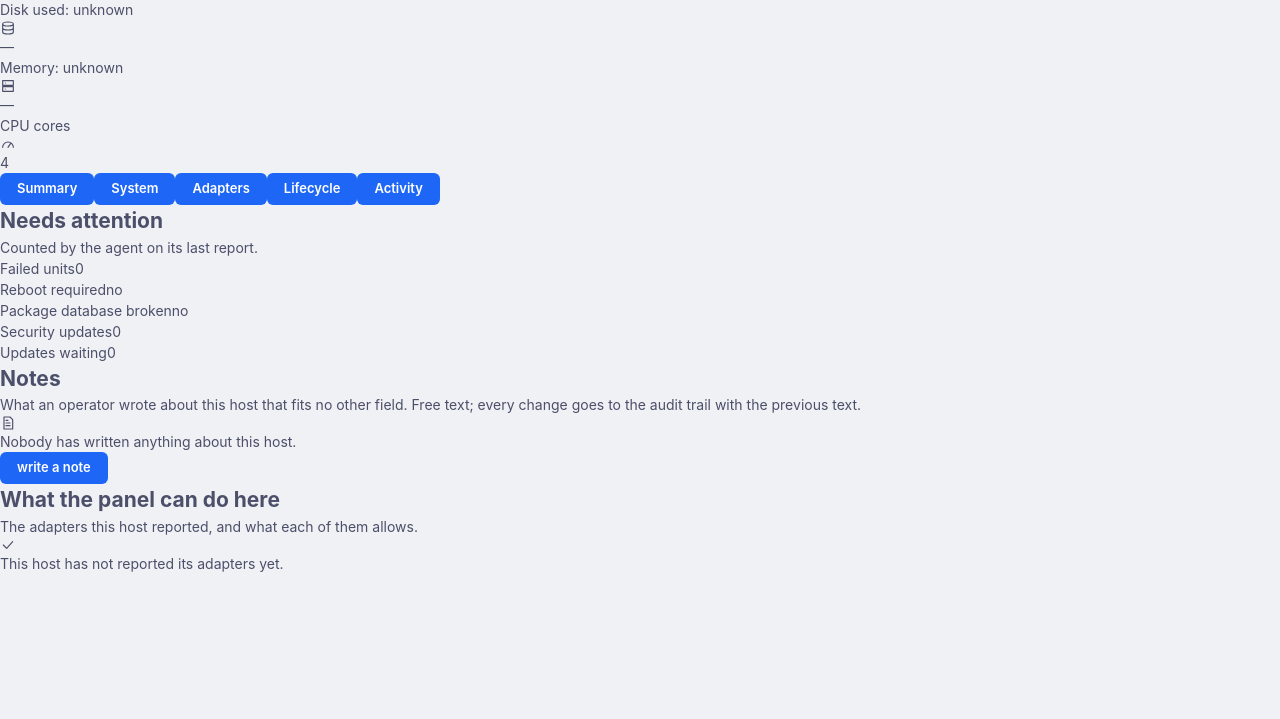
Test: what the overview records about a host › says a refusal of a write in the operator's words, and keeps the editor open
Click the button with test id "edit-notes" at (54, 468), box [0,452,108,484]
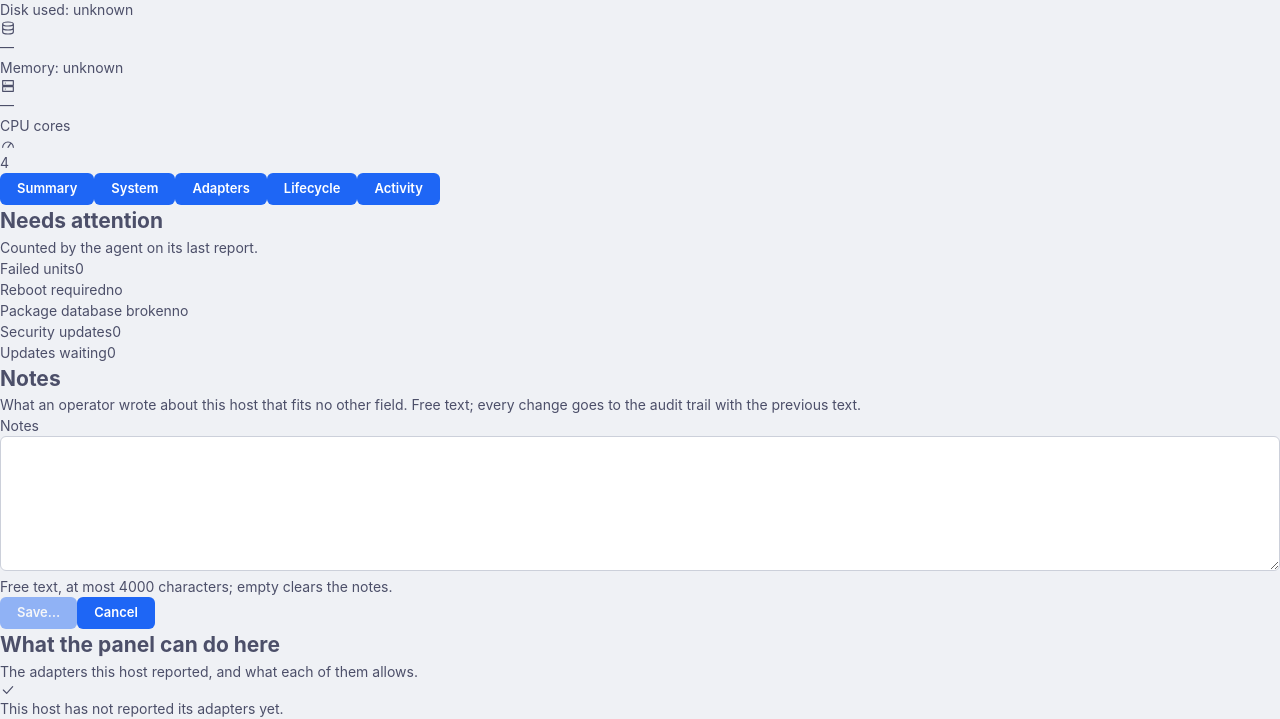
Type "the fan is noisy" into the text box with test id "input-notes" at (640, 504), box [0,436,1279,571]
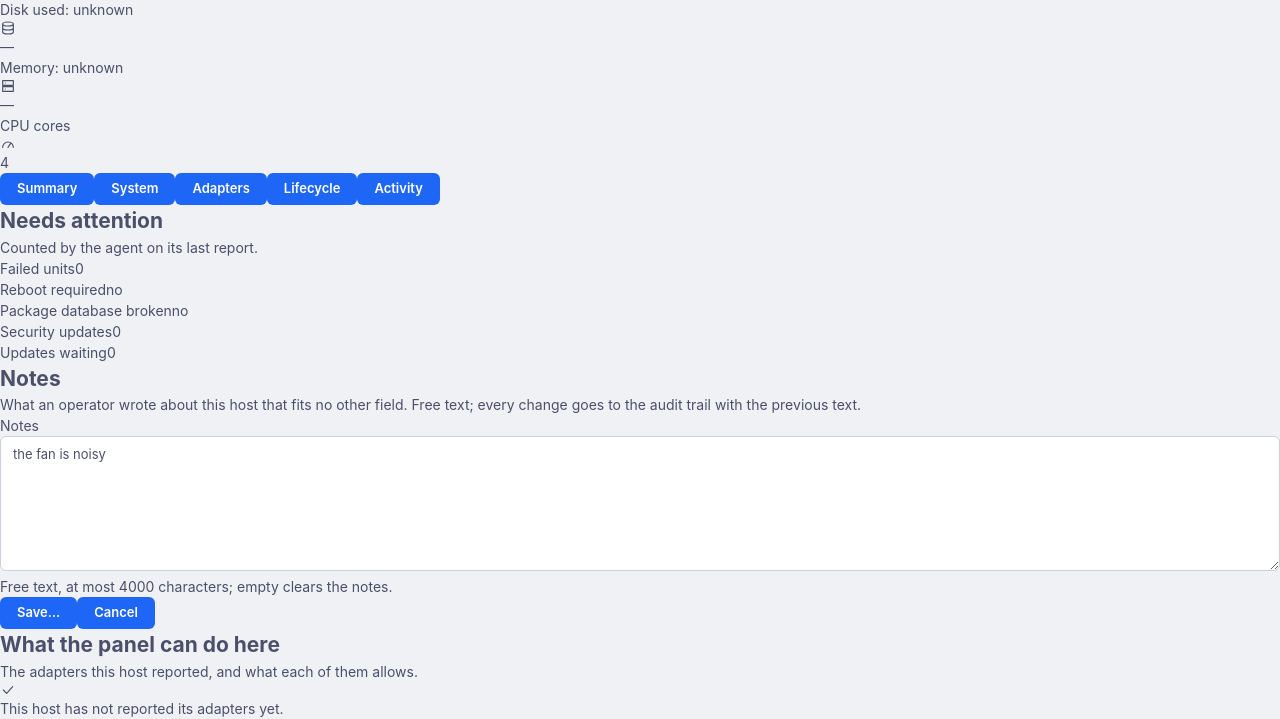
Click the button with test id "save-notes" at (39, 613), box [0,597,77,629]
(page scrolled)
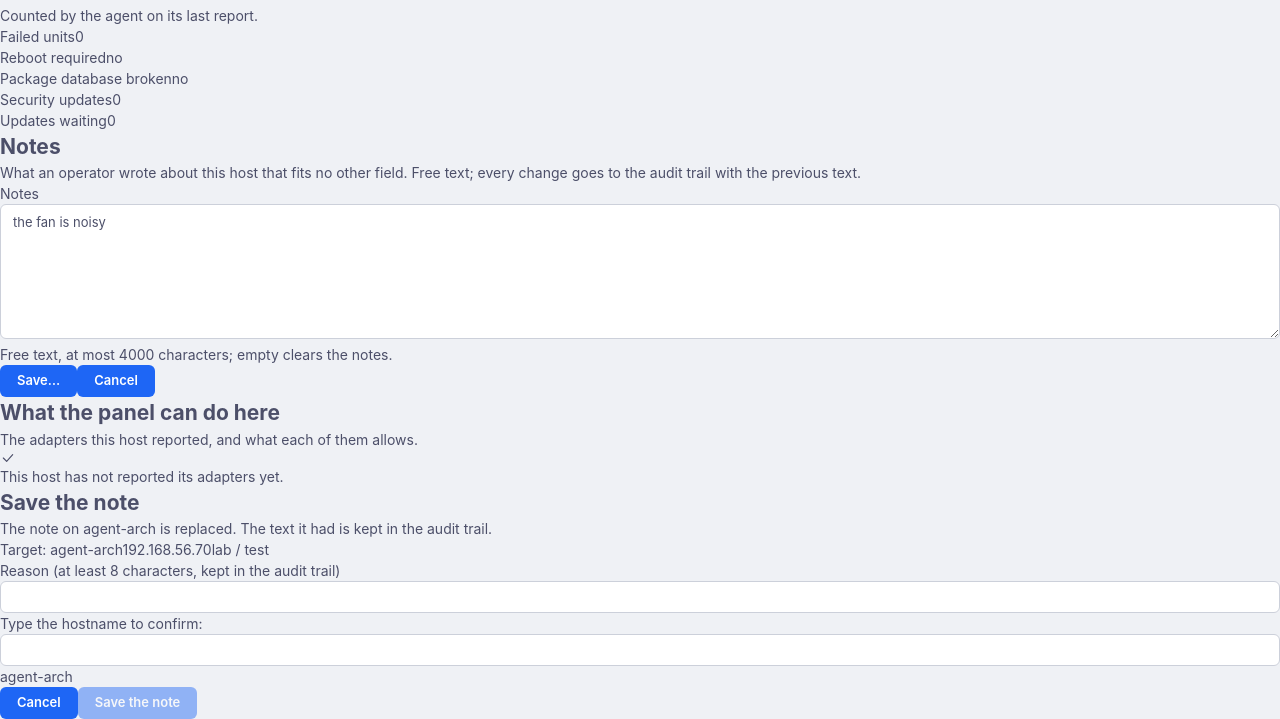
Type "handover note, ticket 1234" into the field with test id "confirm-reason" at (640, 597), box [0,581,1279,613]
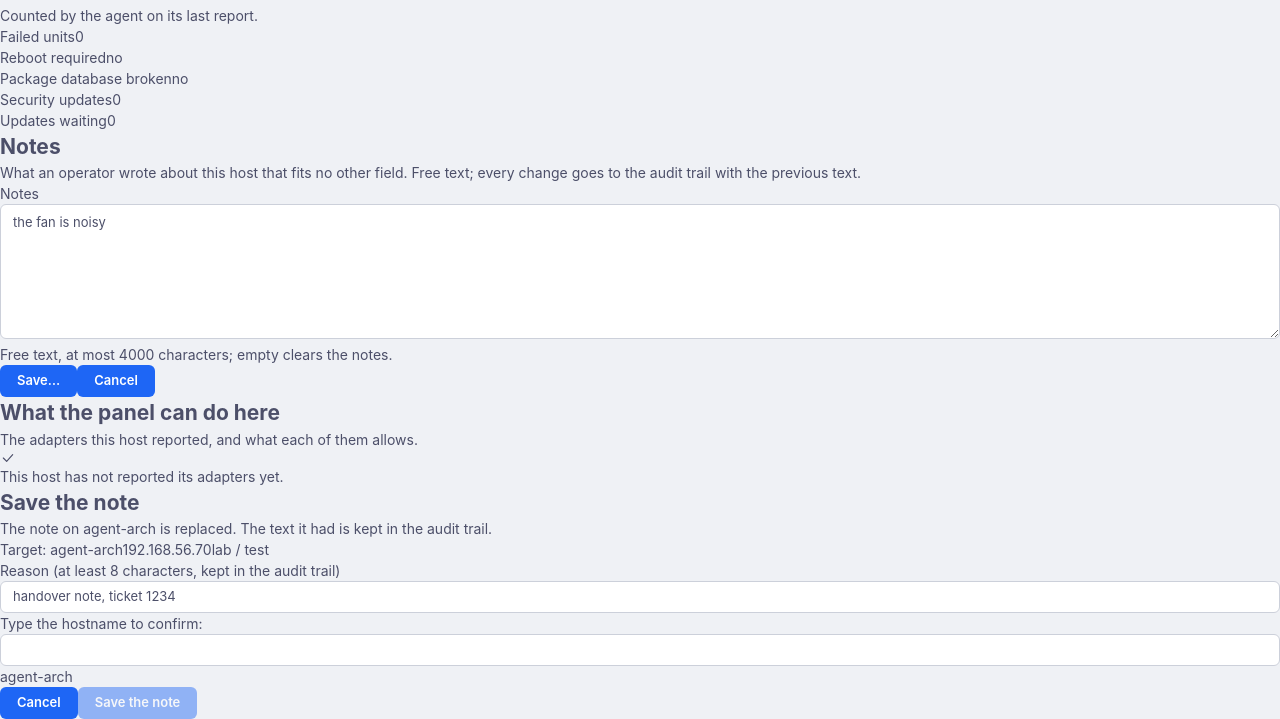
Type "agent-arch" into the field with test id "confirm-target" at (640, 650), box [0,634,1279,666]
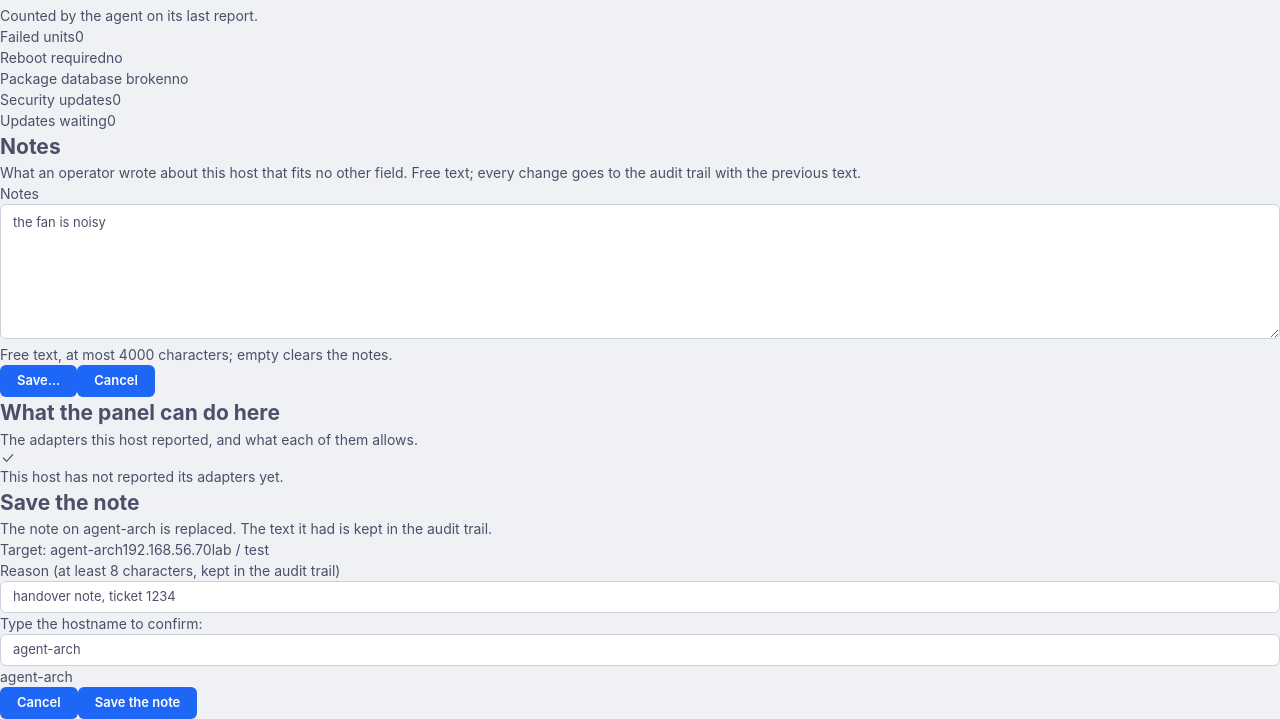
Click the button with test id "confirm-order" at (138, 703), box [78,687,197,718]
(page scrolled)
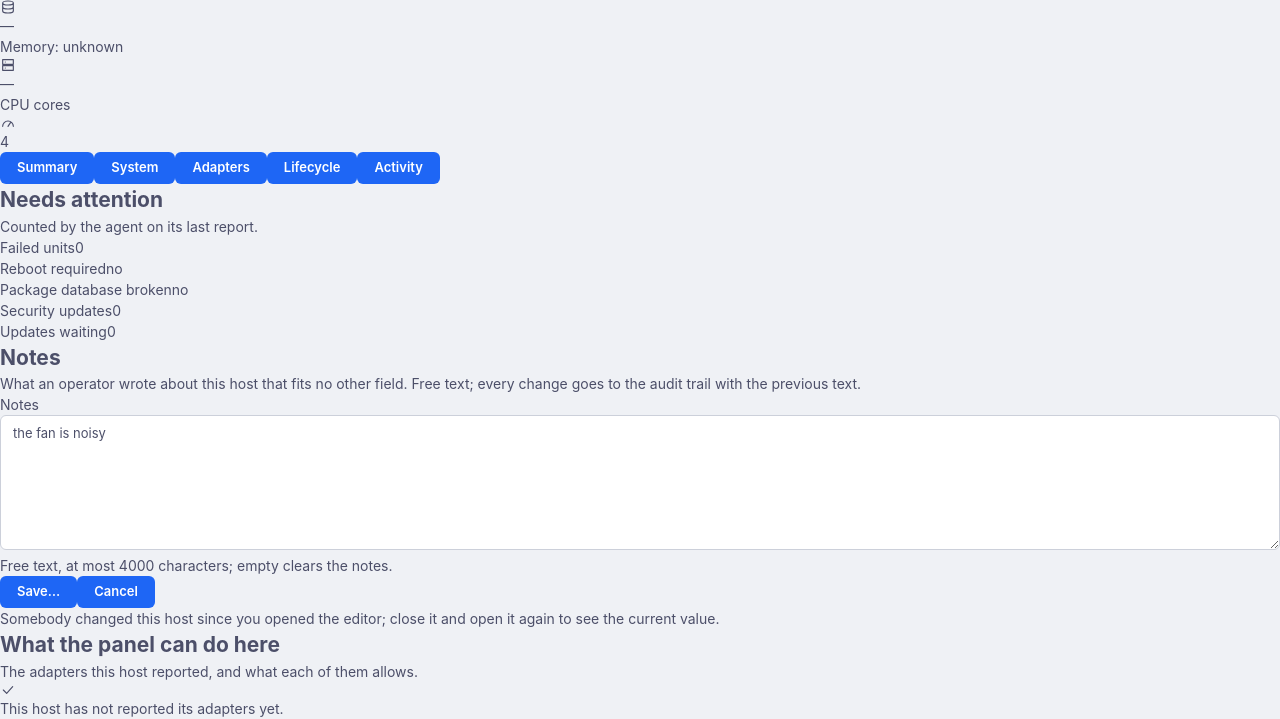
expect the text "Somebody changed this host" is shown: met, box [0,610,720,627]
expect the button with test id "confirm-order" is gone: met
